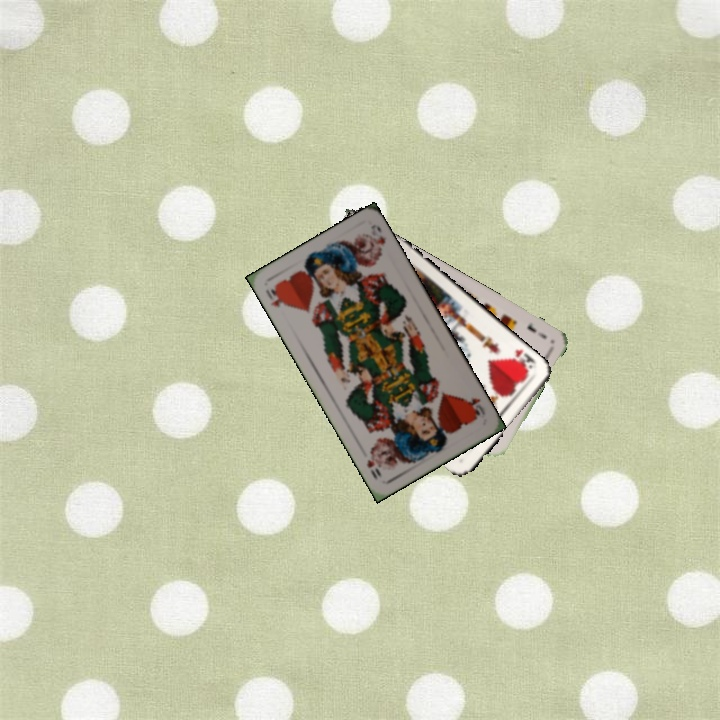E7: (523, 318, 549, 341)
HK: (508, 345, 539, 375)
HO: (261, 281, 290, 310), (461, 394, 488, 421)
